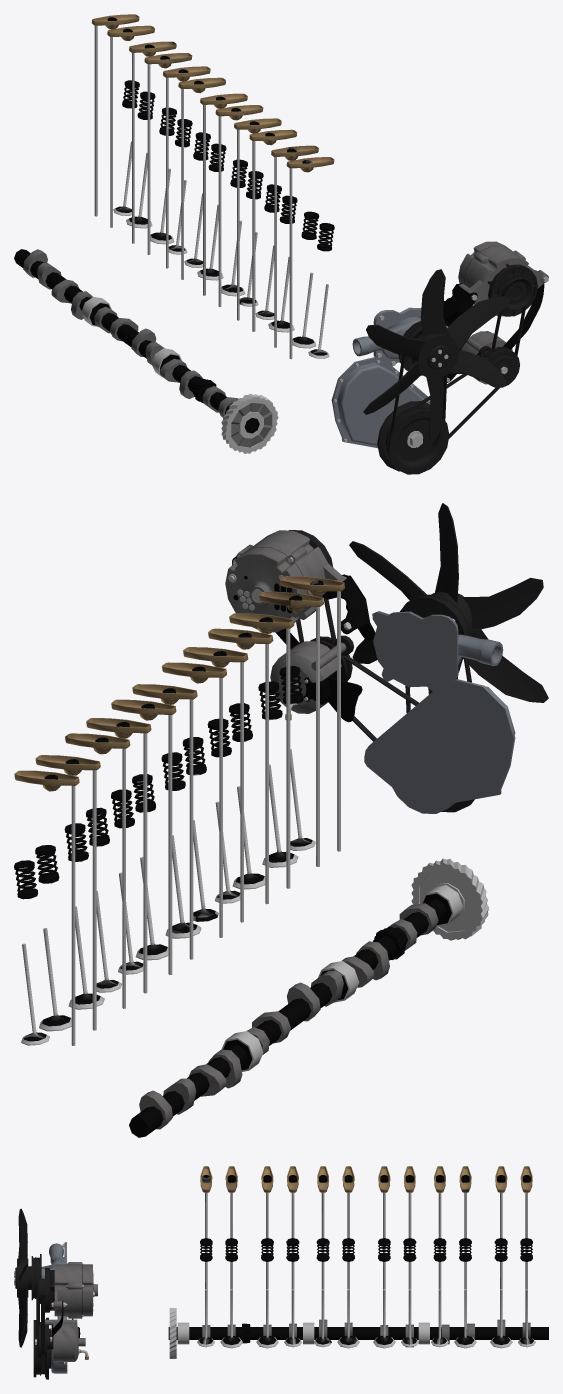
File: tcc-fundamentos-valvulas.glb
3 views of the same model, one above another, from view 1: azimuth 30°, elevation 25°; view 2: azimuth 150°, elevation 25°; view 3: azimuth 270°, elevation 25° (orthographic). The views are drawn at different scales.
Parts seen in each view (by area): view 1: polias, comando, varetas, balancim, valvulas, mola_valvula; view 2: polias, comando, varetas, balancim, valvulas, mola_valvula; view 3: polias, comando, valvulas, varetas, balancim, mola_valvula.
Part boxes in pixels (<box>): polias: <box>331,241,548,474</box>; comando: <box>14,249,278,453</box>; varetas: <box>94,25,292,359</box>; balancim: <box>91,14,334,172</box>; valvulas: <box>113,141,329,358</box>; mola_valvula: <box>122,80,334,251</box>; polias: <box>225,503,548,813</box>; comando: <box>129,858,489,1137</box>; varetas: <box>71,591,340,1045</box>; balancim: <box>14,576,344,791</box>; valvulas: <box>21,749,315,1045</box>; mola_valvula: <box>14,666,303,899</box>; polias: <box>14,1208,97,1379</box>; comando: <box>168,1308,548,1358</box>; valvulas: <box>197,1289,535,1348</box>; varetas: <box>205,1192,527,1328</box>; balancim: <box>200,1166,532,1192</box>; mola_valvula: <box>200,1238,532,1261</box>.
Bounding box in the file's own units: 0.4395 × 0.4302 × 0.9758.
3 materials, 3 textured.
